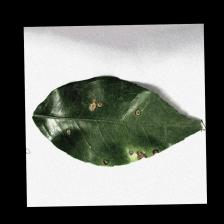canker: (56, 95, 167, 161)
